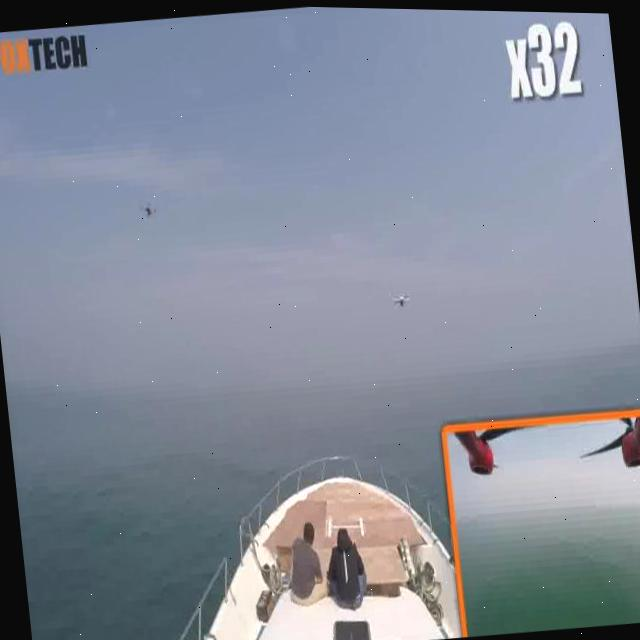drone: (382, 276, 417, 317), (136, 186, 160, 224)
